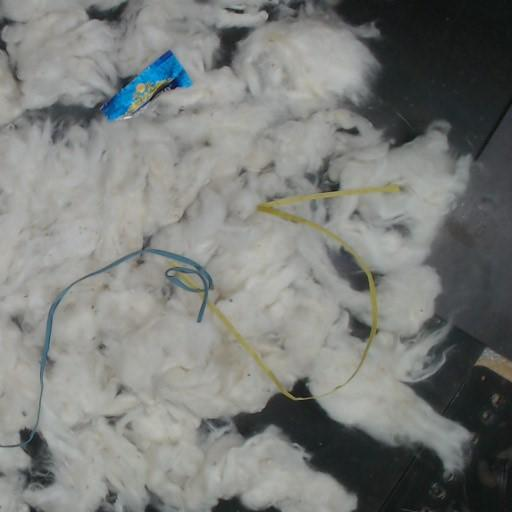conveyor belt: (234, 0, 511, 511), (220, 27, 247, 63), (88, 2, 126, 21), (215, 498, 246, 511), (351, 319, 369, 340)
cotton: (0, 0, 471, 511)
packet: (102, 51, 191, 119)
thread: (28, 248, 317, 439), (257, 185, 400, 396)
